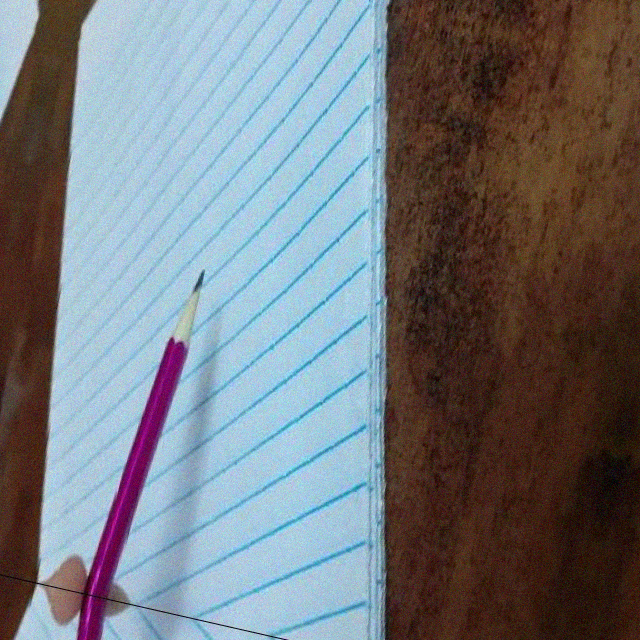pencil: (163, 262, 213, 347)
